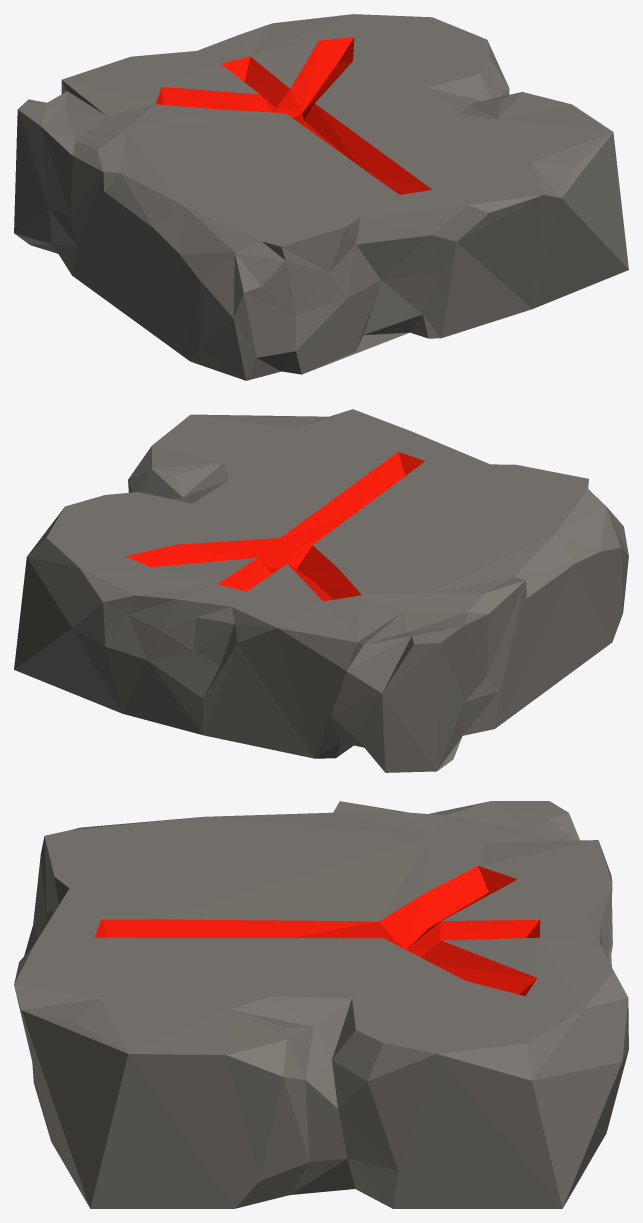
File: SM_Env_Rune_Square_02.fbx
3 views of the same model, one above another, from view 1: azimuth 30°, elevation 25°; view 2: azimuth 150°, elevation 25°; view 3: azimuth 270°, elevation 25° (orthographic). The views are drawn at different scales.
Parts seen in each view (by area): view 1: SM_Env_Rune_Square_02; view 2: SM_Env_Rune_Square_02; view 3: SM_Env_Rune_Square_02.
Boxes of the visible parts, left/top/right/bottom form: SM_Env_Rune_Square_02: left=14, top=14, right=628, bottom=380; SM_Env_Rune_Square_02: left=14, top=409, right=628, bottom=772; SM_Env_Rune_Square_02: left=14, top=801, right=628, bottom=1208.
Size of the model in its own units: 0.9593 by 0.2738 by 0.9853.
